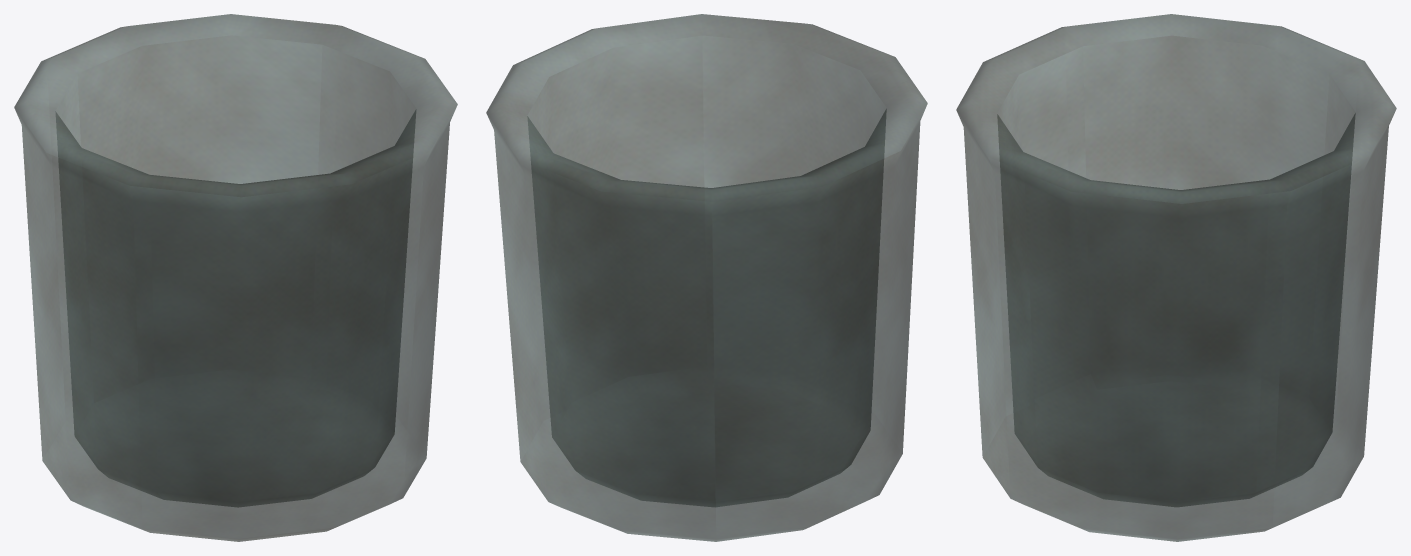
Rendered from Glass03.fbx.
The picture shows the model from 3 angles, left to right: view 1: azimuth 30°, elevation 25°; view 2: azimuth 150°, elevation 25°; view 3: azimuth 270°, elevation 25°; orthographic projection.
Visible parts, largest first — view 1: Glass03; view 2: Glass03; view 3: Glass03.
Part boxes in pixels (box(x1,y1,x2,y2)): Glass03: box(14, 14, 457, 541); Glass03: box(486, 14, 927, 541); Glass03: box(956, 14, 1396, 541).
Size of the model in its own units: 0.1179 by 0.1089 by 0.1179.
Materials: 1 (1 with a texture image).
